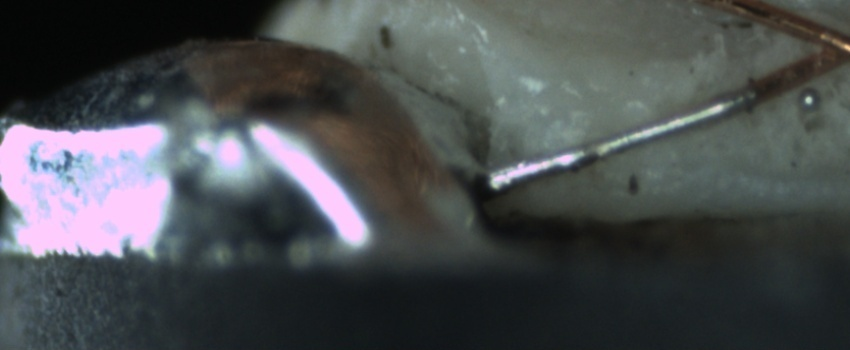CL: (792, 12, 850, 82)
TS: (480, 83, 747, 193)
TTCW: (478, 63, 792, 193)
